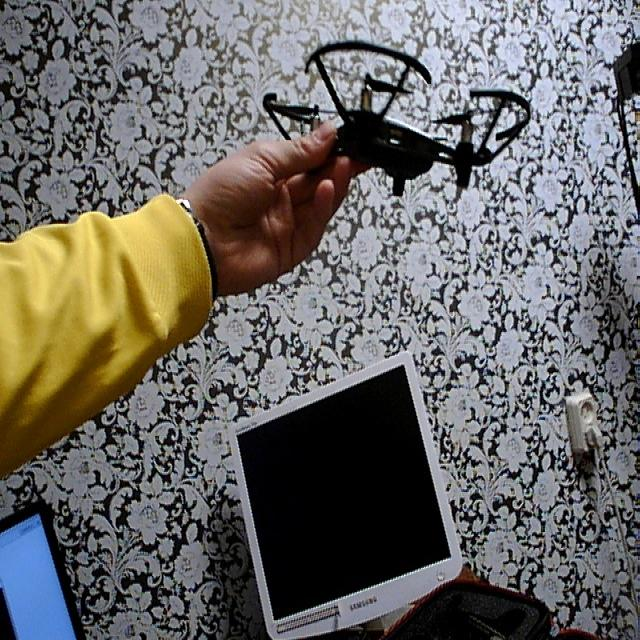drone: (255, 28, 550, 211)
